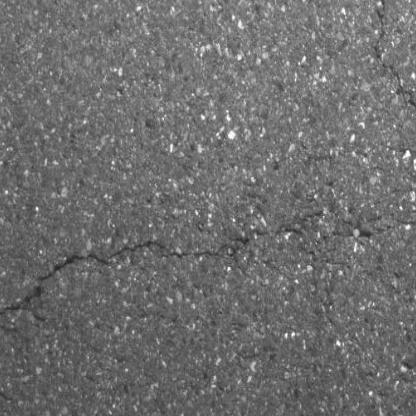Cracks: (0, 226, 306, 329), (371, 0, 416, 137)
